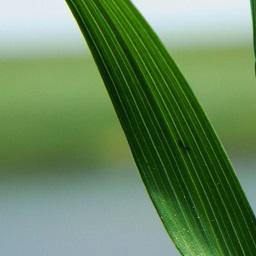Wheat: (181, 201, 249, 256), (146, 154, 227, 194), (112, 46, 167, 100), (130, 104, 197, 147), (87, 0, 130, 42)
